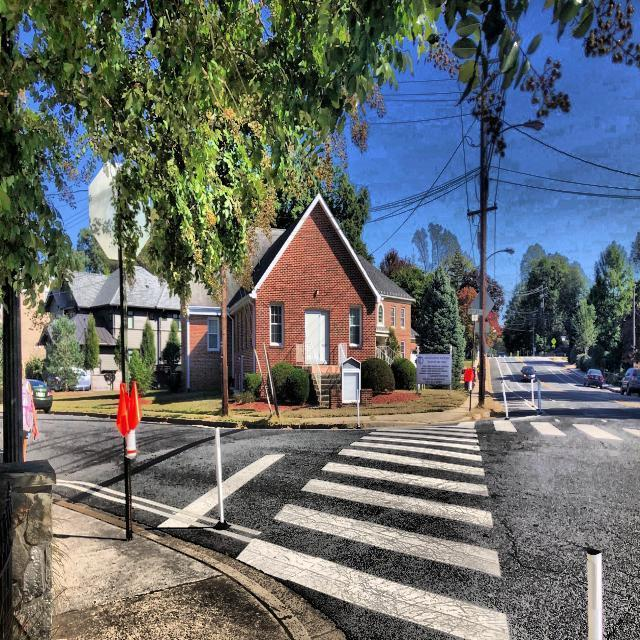crosswalk: (236, 427, 508, 640), (494, 419, 640, 437)
